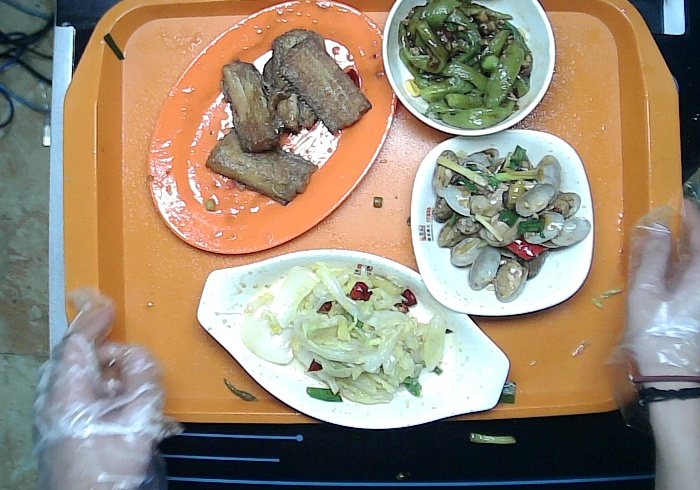NLDX-Bai_Se_Xiao_Fang_Die: (408, 127, 597, 317)
NLDX-Fan_Wan: (380, 1, 557, 136)
NLDX-Ju_Se_Pan: (145, 1, 398, 255)
NLDX-Yu_Pan: (194, 246, 513, 430)
